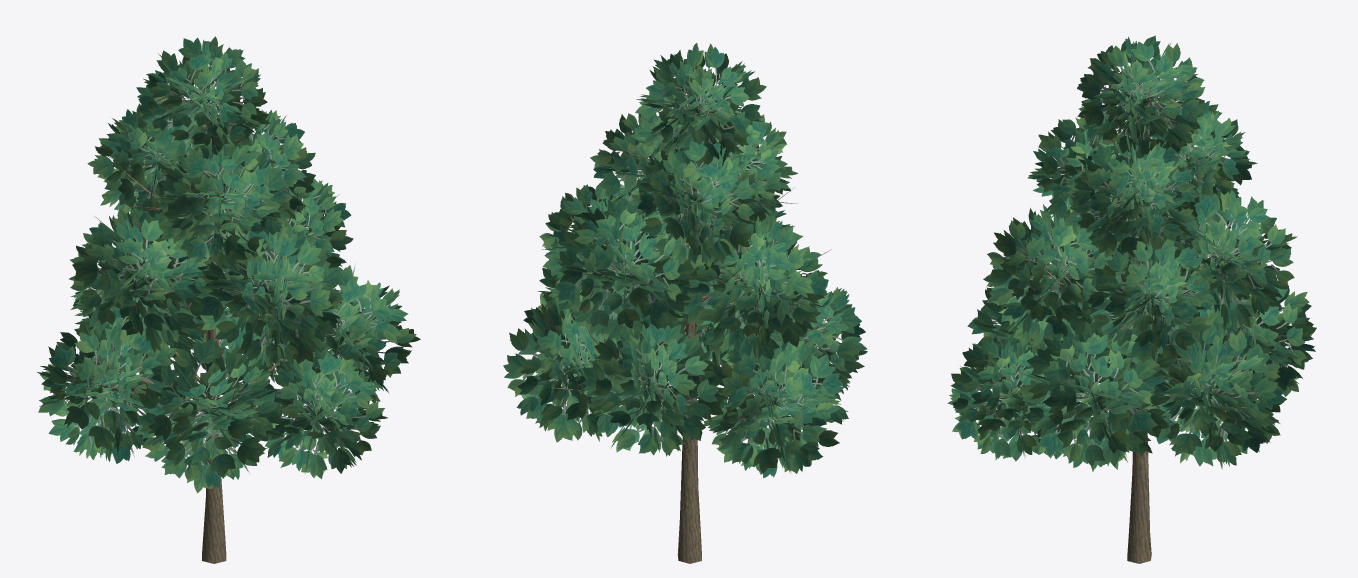
Rendered from tulip_poplar_2.fbx.
3 views of the same model, side by side, from view 1: azimuth 30°, elevation 25°; view 2: azimuth 150°, elevation 25°; view 3: azimuth 270°, elevation 25° (orthographic).
Visible parts, largest first — view 1: Plane.016, tree; view 2: Plane.016, tree; view 3: Plane.016, tree.
Boxes of the visible parts, bbox=[...] form: Plane.016: bbox=[37, 36, 420, 493]; tree: bbox=[87, 60, 342, 563]; Plane.016: bbox=[503, 43, 867, 478]; tree: bbox=[548, 76, 833, 563]; Plane.016: bbox=[947, 35, 1316, 471]; tree: bbox=[1010, 70, 1287, 563].
Bounding box in the file's own units: 544 × 745 × 520.
